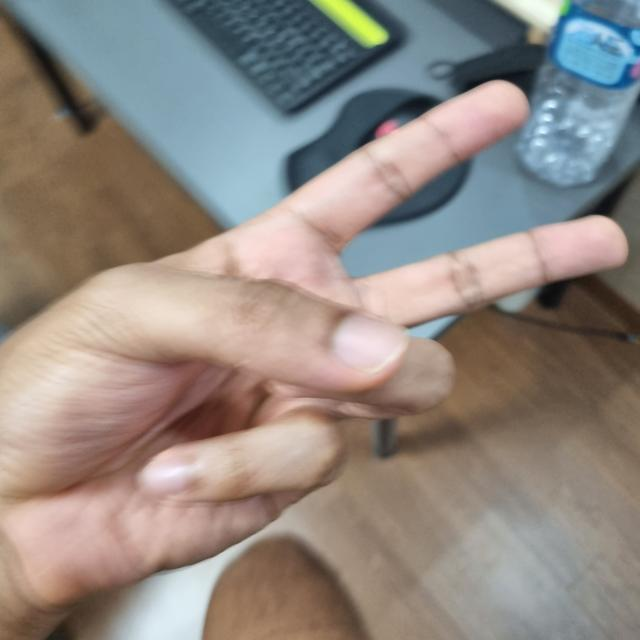Scissors: (0, 89, 630, 637)
